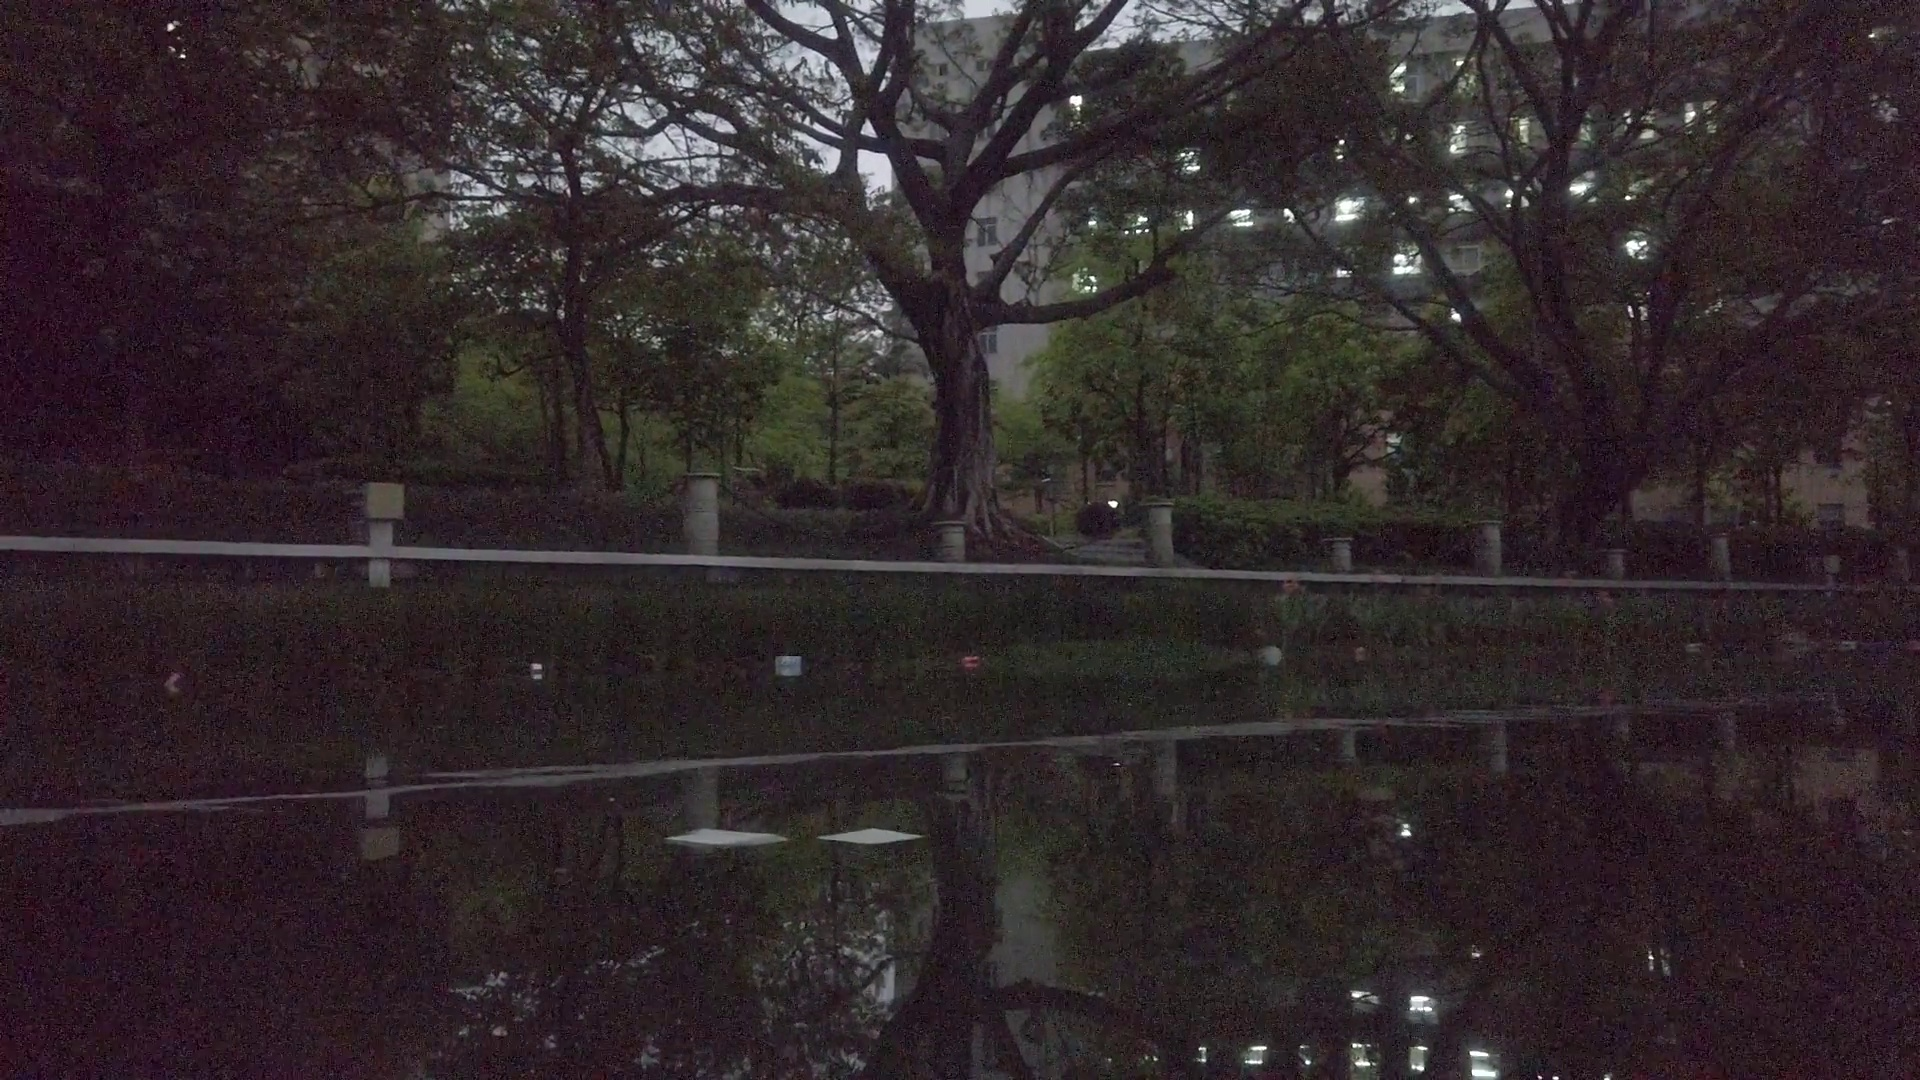bottle: (960, 657, 978, 665)
carton: (775, 651, 802, 669), (531, 662, 541, 675)
paper: (814, 819, 923, 847), (659, 824, 793, 844)
plastic: (1250, 641, 1290, 669)
